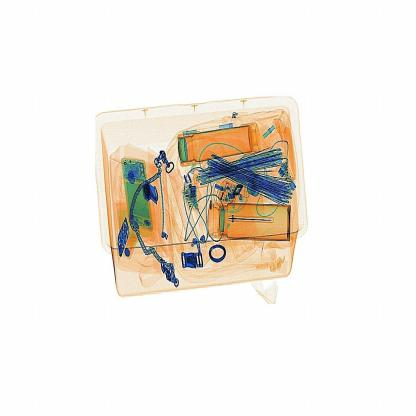wrench: (220, 207, 283, 233)
